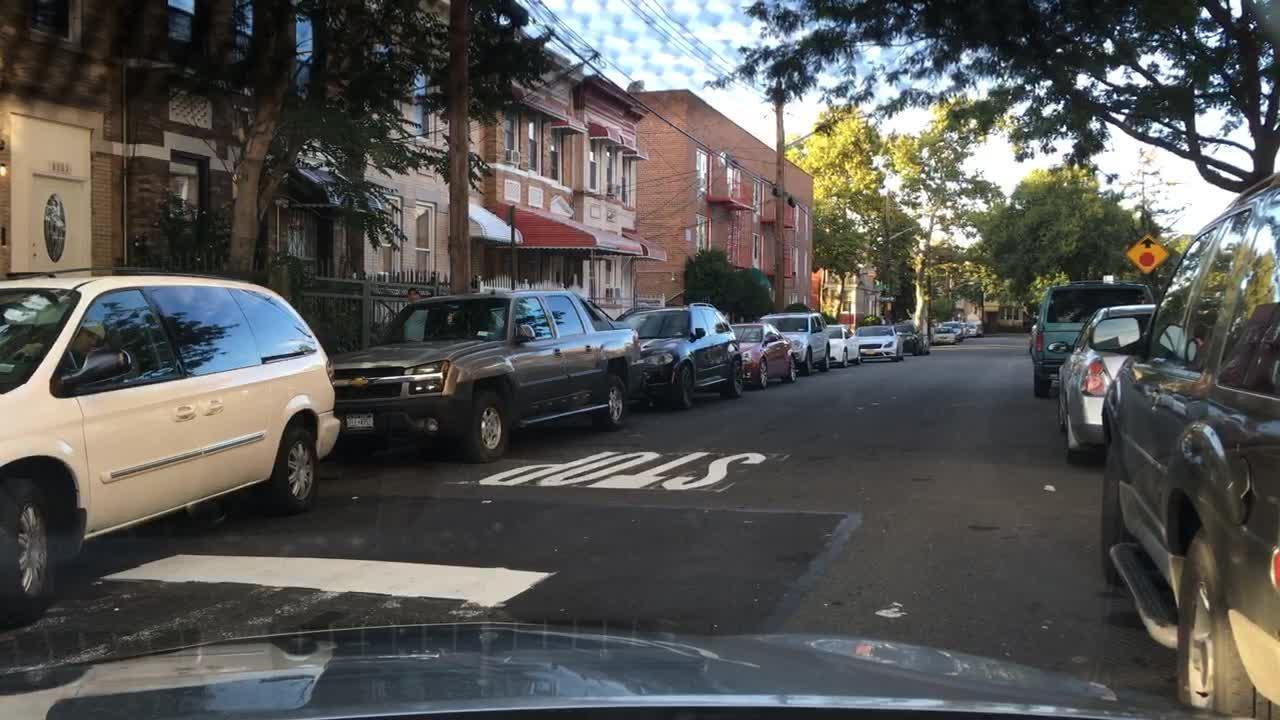chevrolet: (345, 373, 379, 394)
